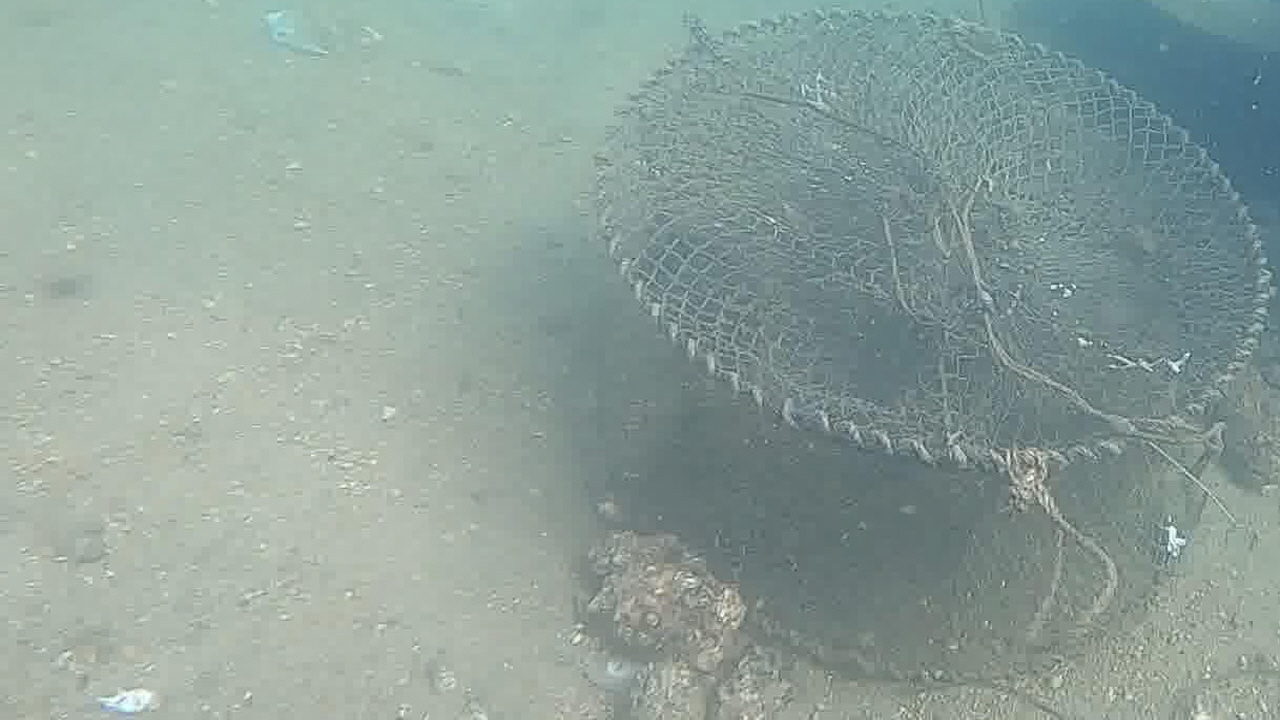circular fish trap: (596, 7, 1275, 683)
